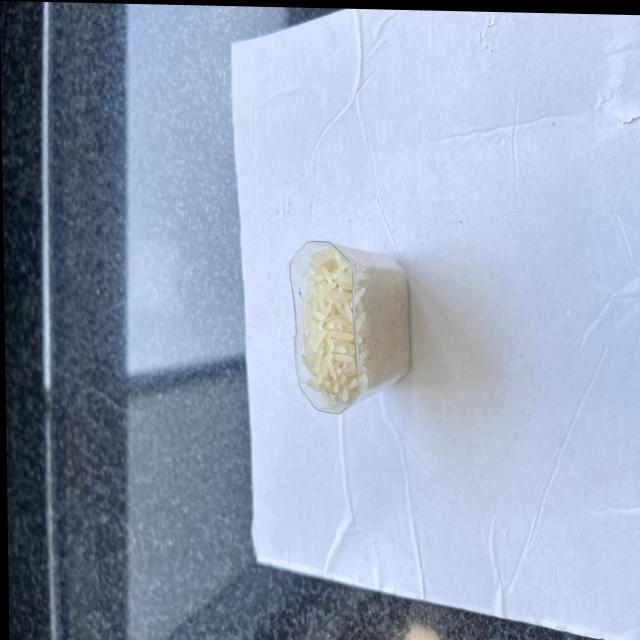raw_rice: (296, 243, 413, 406)
